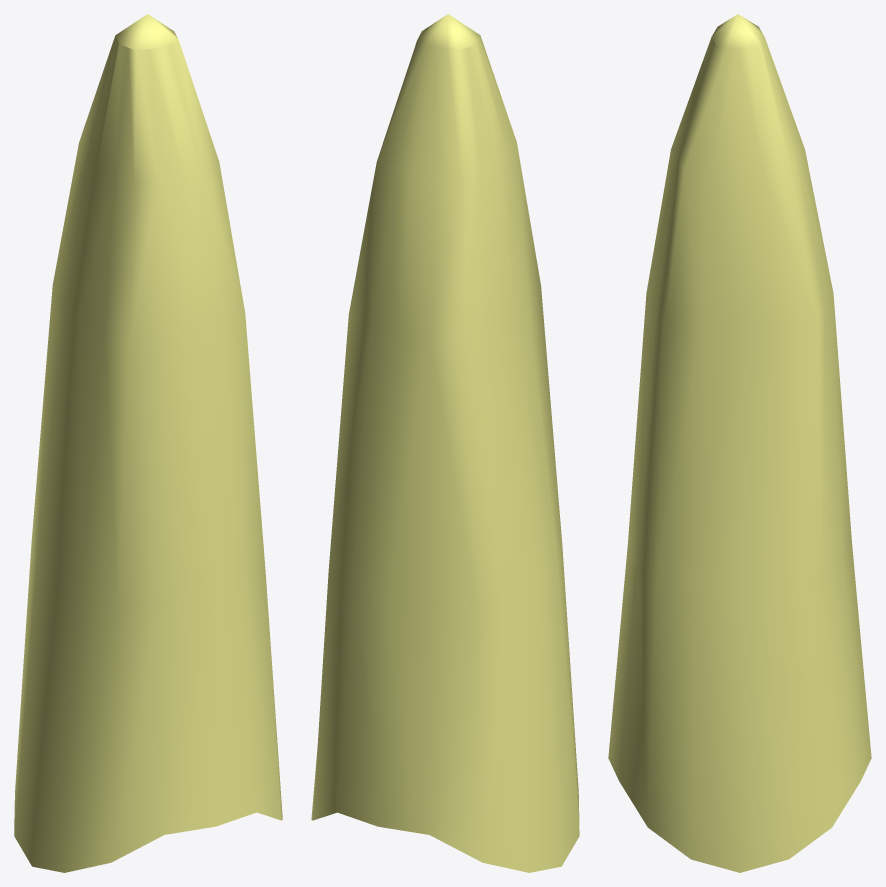
The model's file is D52R_Raiz.obj.
3 renders of one model, left to right at view 1: azimuth 30°, elevation 25°; view 2: azimuth 150°, elevation 25°; view 3: azimuth 270°, elevation 25°, orthographic. The views are drawn at different scales.
Parts seen in each view (by area): view 1: D52R_Raiz; view 2: D52R_Raiz; view 3: D52R_Raiz.
Boxes of the visible parts, x1,y1,x2,y2 form: D52R_Raiz: (14,14,282,872); D52R_Raiz: (311,14,579,872); D52R_Raiz: (608,14,871,872).
Bounding box in the file's own units: 3.66 × 12.39 × 3.68.
